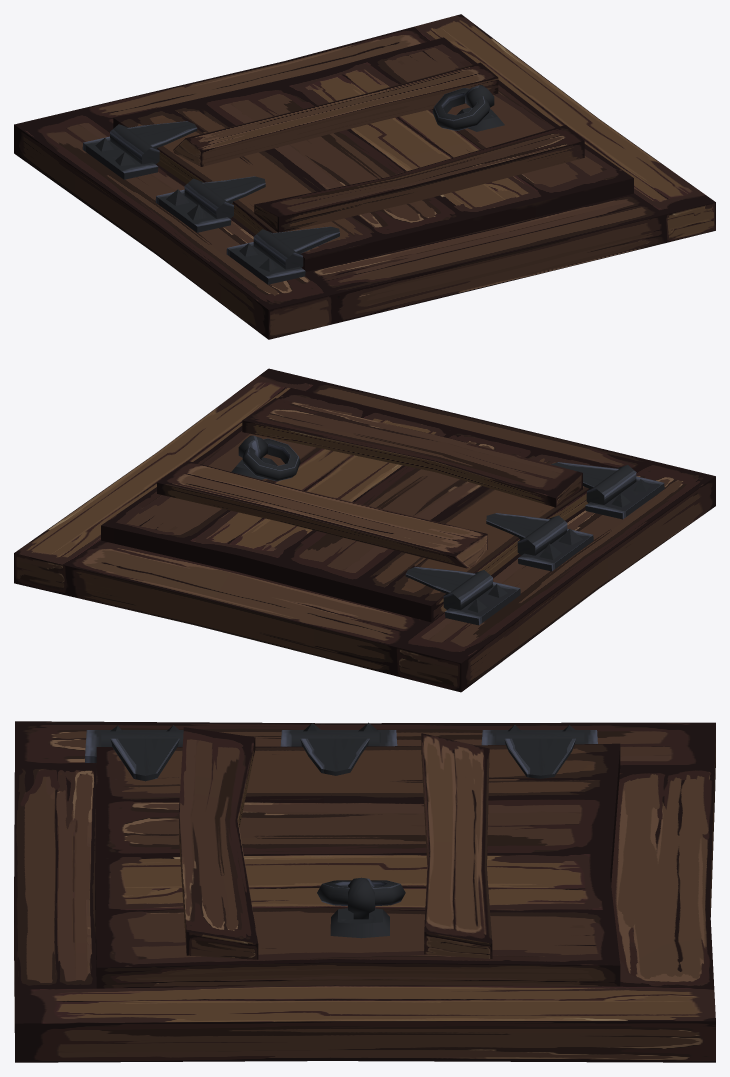
Rendered from SM_PROP_trapdoor_dungeon_01.fbx.
3 views of the same model, one above another, from view 1: azimuth 30°, elevation 25°; view 2: azimuth 150°, elevation 25°; view 3: azimuth 270°, elevation 25° (orthographic). The views are drawn at different scales.
Visible parts, largest first — view 1: SM_PROP_trapdoor_door_dungeon_01, SM_PROP_trapdoor_dungeon_01; view 2: SM_PROP_trapdoor_door_dungeon_01, SM_PROP_trapdoor_dungeon_01; view 3: SM_PROP_trapdoor_door_dungeon_01, SM_PROP_trapdoor_dungeon_01.
Boxes of the visible parts, x1,y1,x2,y2 form: SM_PROP_trapdoor_door_dungeon_01: (110,37,633,271); SM_PROP_trapdoor_dungeon_01: (14,14,715,339); SM_PROP_trapdoor_door_dungeon_01: (101,388,636,622); SM_PROP_trapdoor_dungeon_01: (14,368,715,692); SM_PROP_trapdoor_door_dungeon_01: (95,727,620,988); SM_PROP_trapdoor_dungeon_01: (14,721,715,1062).
Size of the model in its own units: 208 by 35.7 by 205.
